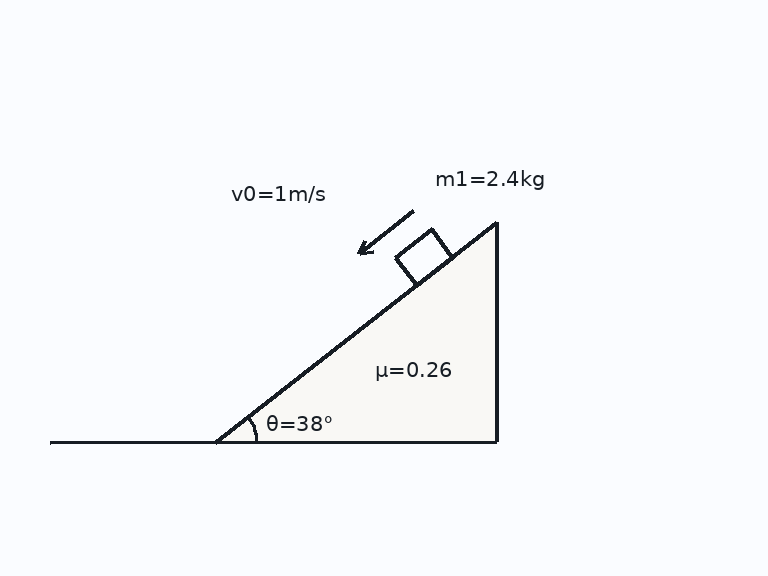block: (393, 227, 455, 287)
ramp: (214, 220, 499, 443)
